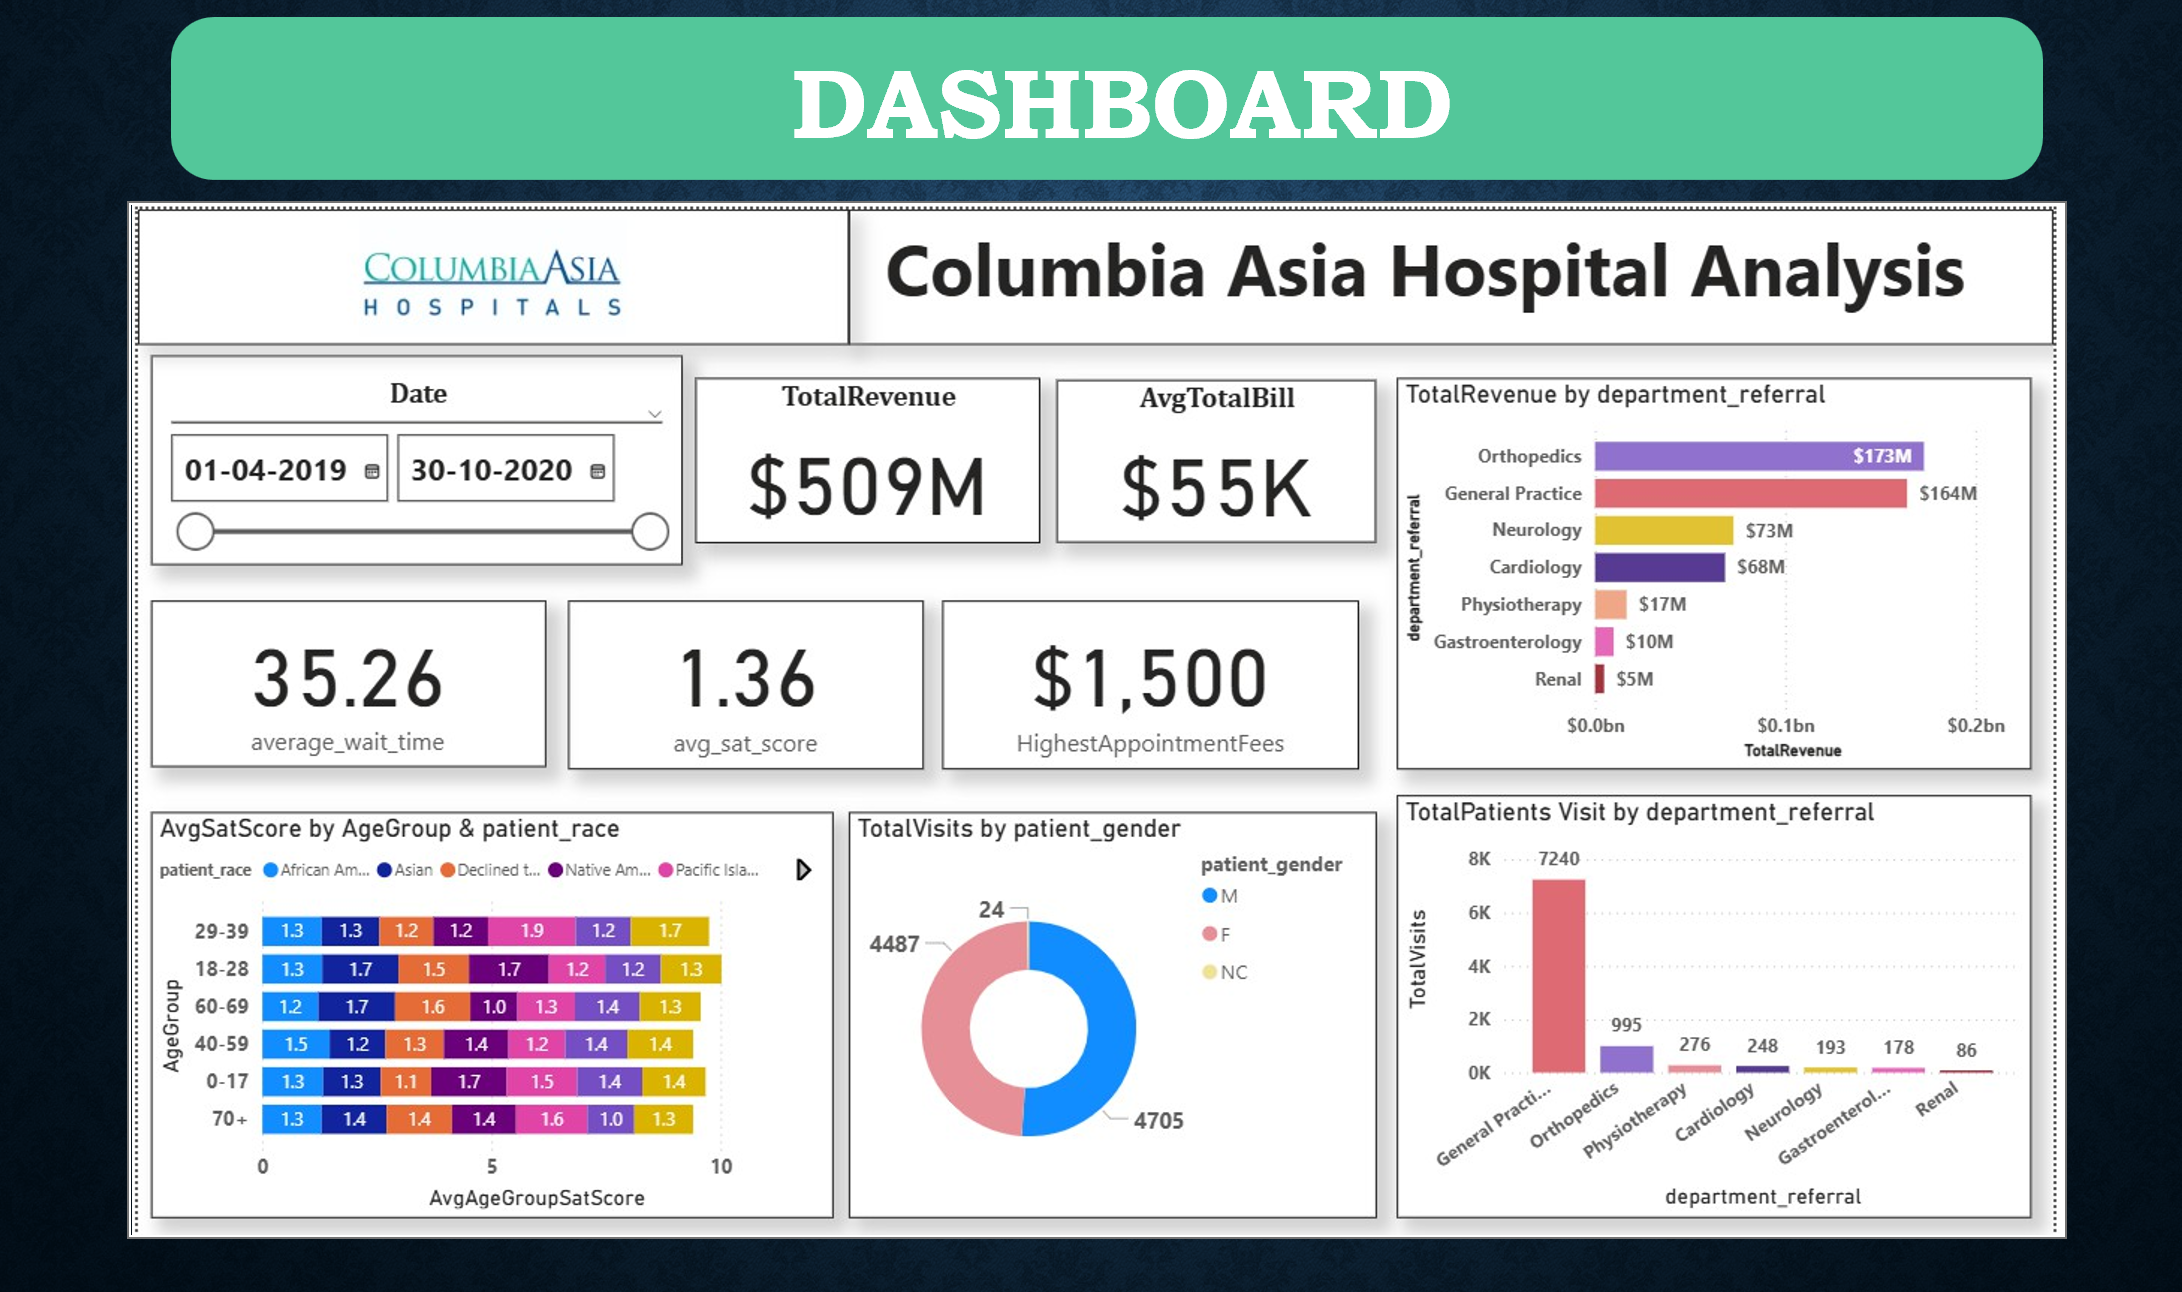

The page's visual inventory and layout, read from the dashboard file:
{"tool":"powerbi","page":{"name":"Main tab ","canvas":[1280,720],"ordinal":0},"visuals":[{"type":"slicer","title":"Date","fields":{"Values":["Hospital ER (1).date"]},"box":[8.8,97.5,355,140],"z":0},{"type":"card","title":"TotalRevenue","fields":{"Values":["Sheet1.TotalRevenue"]},"box":[372.5,112.5,230,110],"z":1000},{"type":"textbox","box":[475,0,805,90],"z":2000},{"type":"image","box":[0,0,475,90],"z":3000},{"type":"card","title":"AvgTotalBill","fields":{"Values":["Sheet1.AvgTotalBill"]},"box":[613.8,113.8,213.8,108.8],"z":4000},{"type":"card","fields":{"Values":["Hospital ER (1).avg_sat_score"]},"box":[287.5,261.2,237.5,112.5],"z":5000},{"type":"card","fields":{"Values":["Hospital ER (1).average_wait_time"]},"box":[8.8,261.2,263.8,111.2],"z":6000},{"type":"card","fields":{"Values":["Sheet1.HighestAppointmentFees"]},"box":[537.5,261.2,278.8,112.5],"z":7000},{"type":"clusteredBarChart","fields":{"Category":["Sheet1.department_referral"],"Y":["Sheet1.TotalRevenue"]},"box":[841.2,112.5,423.8,261.2],"z":8000},{"type":"barChart","title":"AvgSatScore by AgeGroup & patient_race","fields":{"Category":["Hospital ER (1).AgeGroup"],"Y":["Hospital ER (1).AvgAgeGroupSatScore"],"Series":["Hospital ER (1).patient_race"]},"box":[8.8,402.5,456.2,271.2],"z":9000},{"type":"donutChart","fields":{"Category":["Hospital ER (1).patient_gender"],"Y":["Sheet1.TotalVisits"]},"box":[475,402.5,352.5,271.2],"z":10000},{"type":"columnChart","title":"TotalPatients Visit by department_referral","fields":{"Category":["Sheet1.department_referral"],"Y":["Sheet1.TotalVisits"]},"box":[841.2,391.2,423.8,282.5],"z":11000}]}

Visuals, with their boxes on the page's 1280x720 design canvas (x1, y1, x2, y2). These are canvas units, not pixel positions in the 2182x1292 screenshot, which may show the page scaled, cropped or inside an application window:
"Date" slicer: pyautogui.locateOnScreen(9, 98, 364, 238)
"TotalRevenue" card: pyautogui.locateOnScreen(372, 112, 602, 222)
textbox: pyautogui.locateOnScreen(475, 0, 1280, 90)
image: pyautogui.locateOnScreen(0, 0, 475, 90)
"AvgTotalBill" card: pyautogui.locateOnScreen(614, 114, 828, 223)
card - Hospital ER (1).avg_sat_score: pyautogui.locateOnScreen(288, 261, 525, 374)
card - Hospital ER (1).average_wait_time: pyautogui.locateOnScreen(9, 261, 273, 372)
card - Sheet1.HighestAppointmentFees: pyautogui.locateOnScreen(538, 261, 816, 374)
clusteredBarChart - Sheet1.department_referral x Sheet1.TotalRevenue: pyautogui.locateOnScreen(841, 112, 1265, 374)
"AvgSatScore by AgeGroup & patient_race" barChart: pyautogui.locateOnScreen(9, 402, 465, 674)
donutChart - Hospital ER (1).patient_gender x Sheet1.TotalVisits: pyautogui.locateOnScreen(475, 402, 828, 674)
"TotalPatients Visit by department_referral" columnChart: pyautogui.locateOnScreen(841, 391, 1265, 674)
